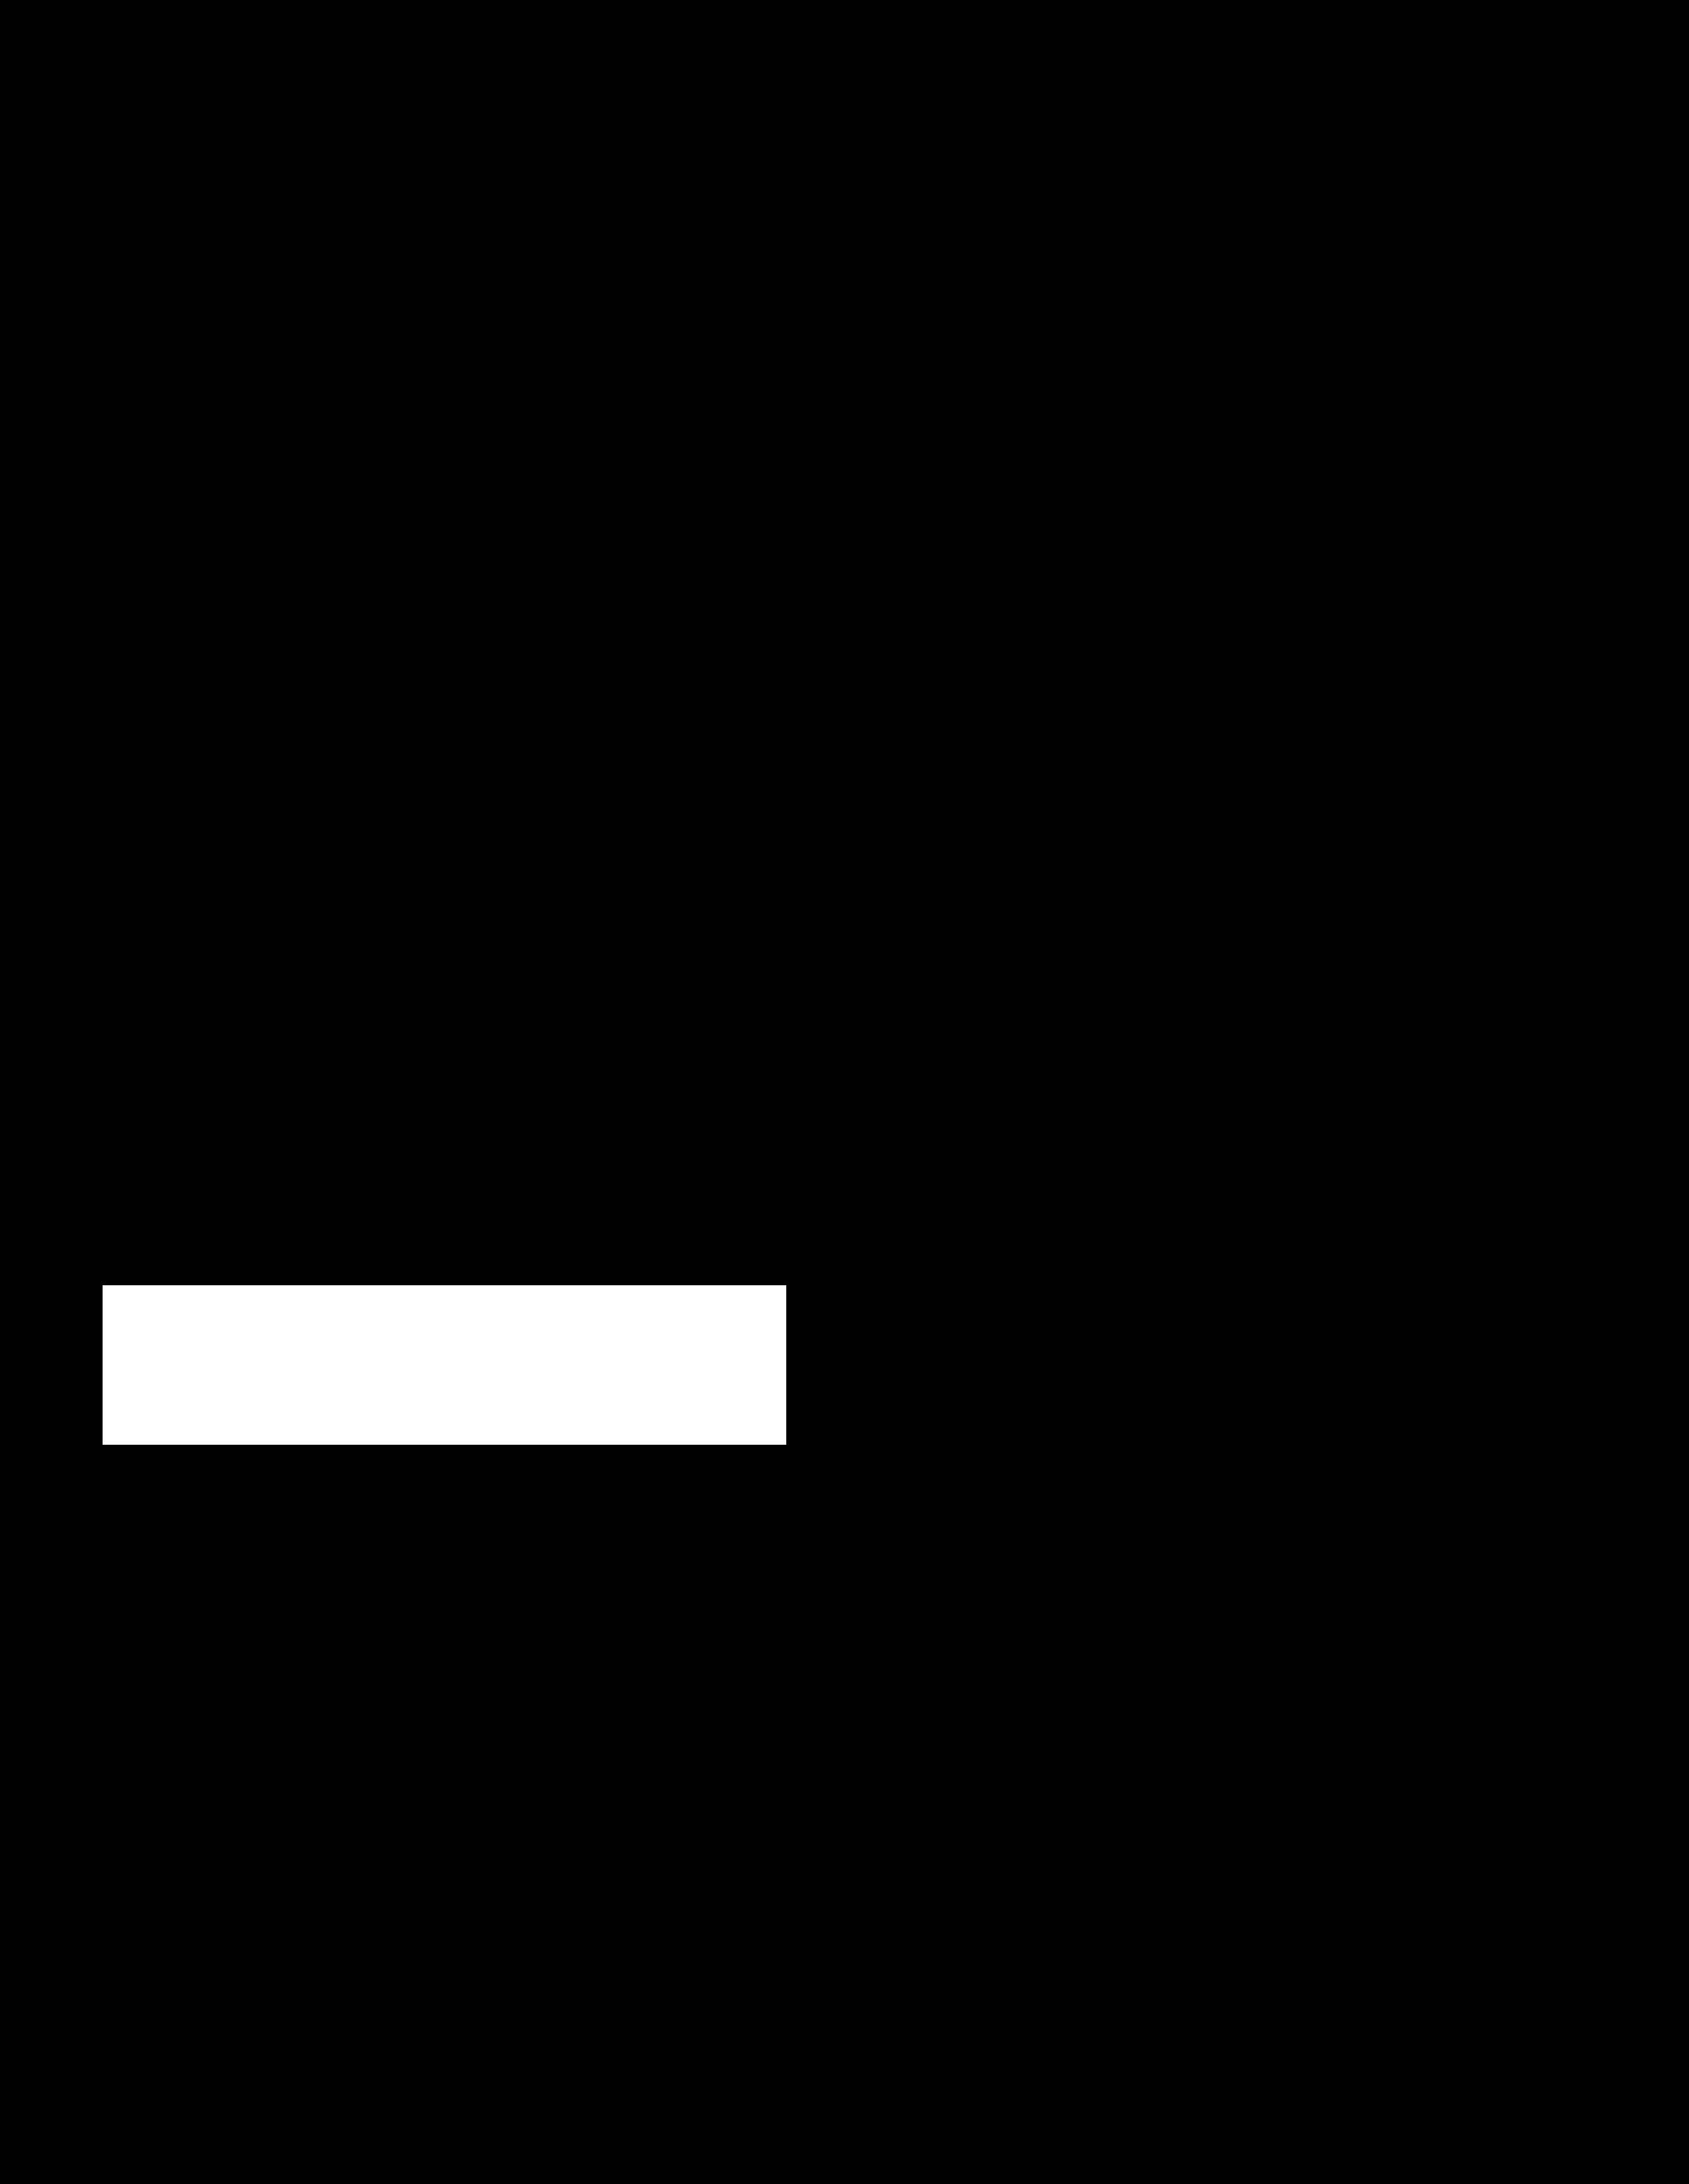table: (103, 1285, 785, 1445)
